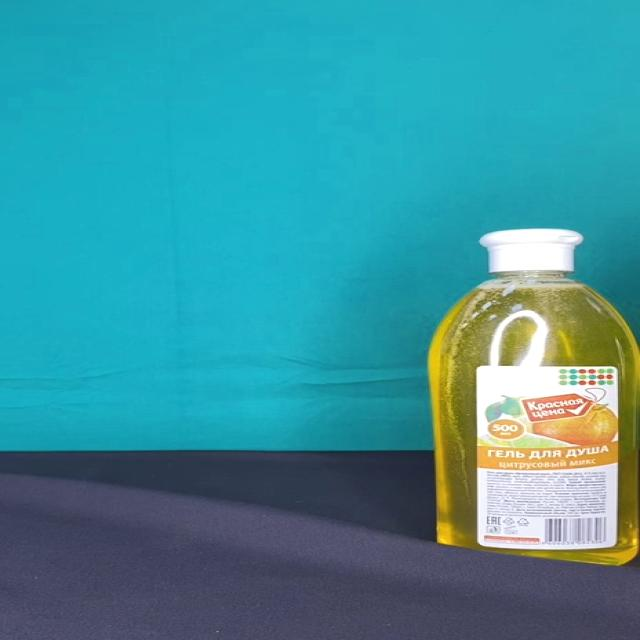Bottle: (430, 229, 640, 567)
Cap: (478, 230, 582, 272)
